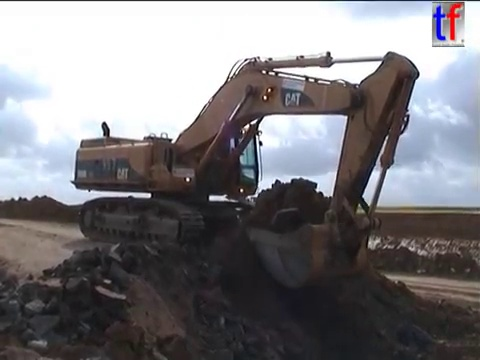excavator: (67, 48, 423, 292)
